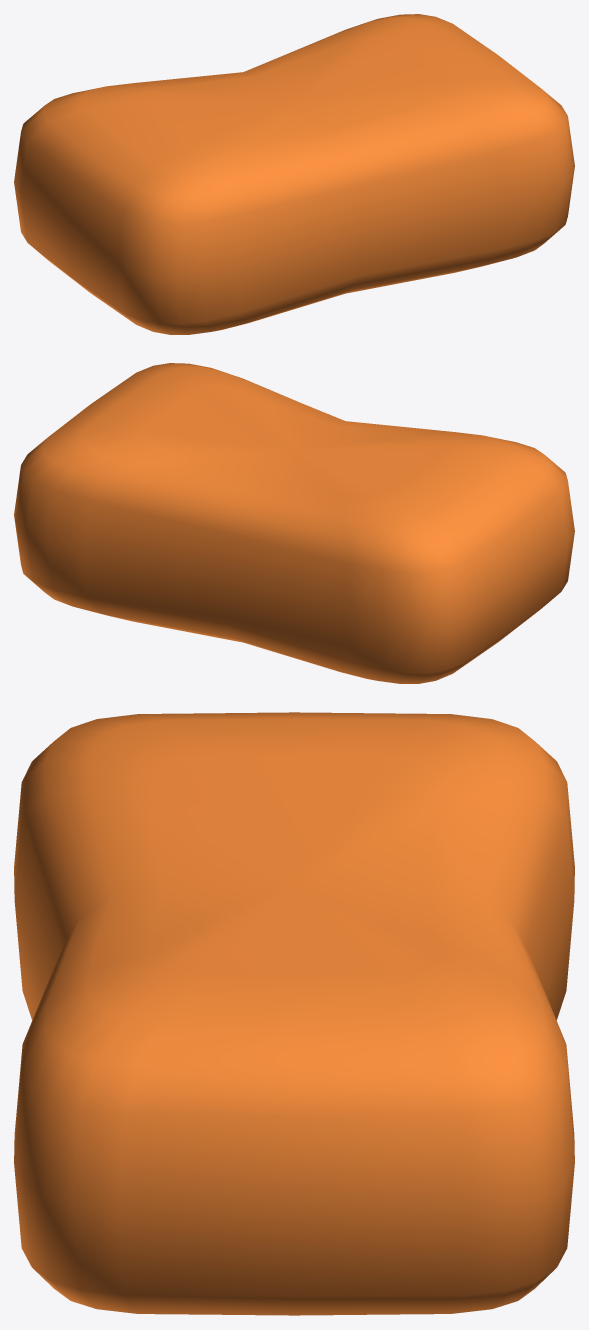
Rendered from esponja_banho_laranja.glb.
3 renders of one model, top to bottom at view 1: azimuth 30°, elevation 25°; view 2: azimuth 150°, elevation 25°; view 3: azimuth 270°, elevation 25°, orthographic. The views are drawn at different scales.
Parts seen in each view (by area): view 1: esponja_banho_laranja; view 2: esponja_banho_laranja; view 3: esponja_banho_laranja.
Boxes of the visible parts, x1,y1,x2,y2 form: esponja_banho_laranja: [14, 14, 574, 334]; esponja_banho_laranja: [14, 363, 574, 683]; esponja_banho_laranja: [14, 712, 574, 1315].
Size of the model in its own units: 0.11 by 0.0402 by 0.0659.
Materials: 1 (1 with a texture image).
